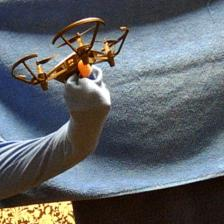drone: (9, 17, 131, 92)
